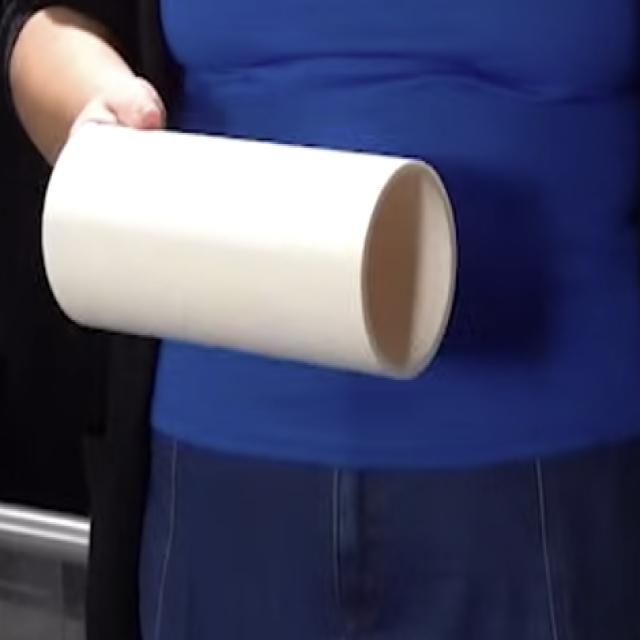Coral: (40, 121, 458, 380)
